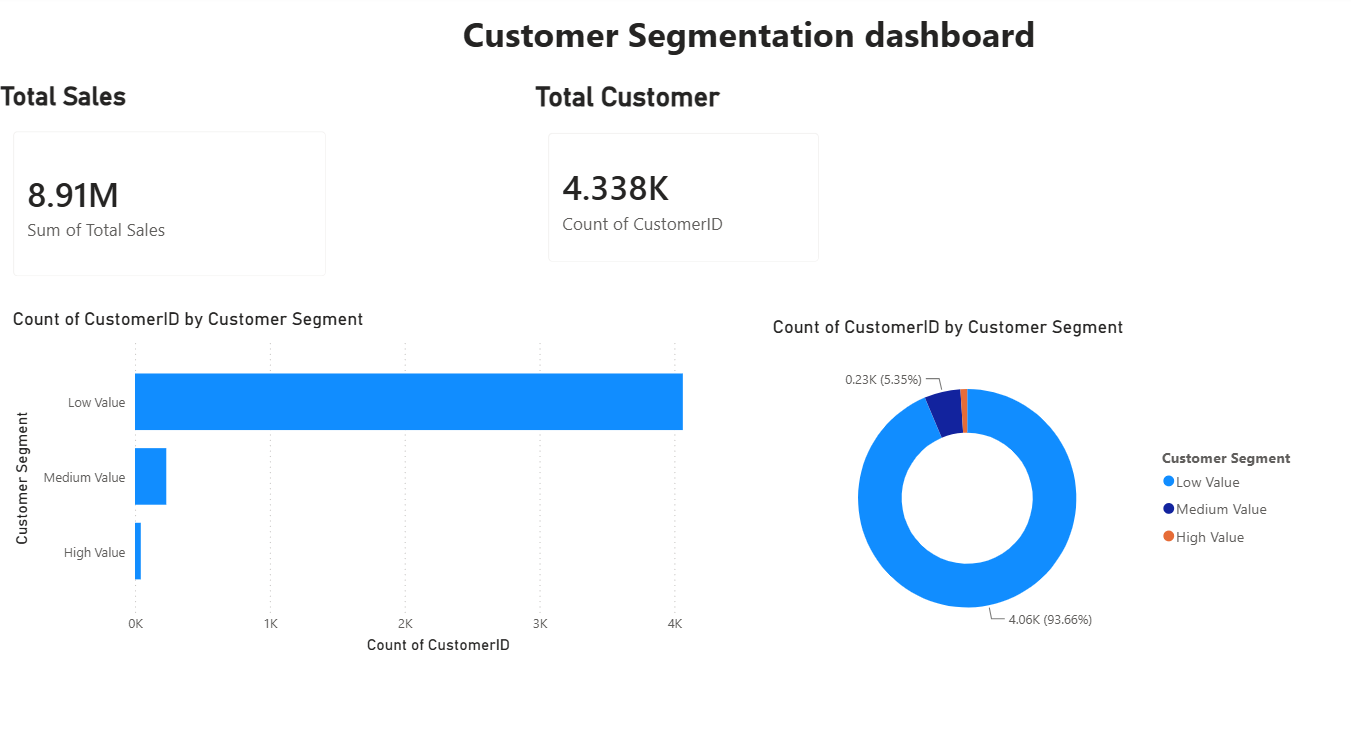

The page's visual inventory and layout, read from the dashboard file:
{"tool":"powerbi","page":{"name":"Page 1","canvas":[1280,720],"ordinal":0},"visuals":[{"type":"cardVisual","title":"Total Customer","fields":{"Data":["Count(OnlineRetail.CustomerID)"]},"box":[497.1,80.5,287,186.1],"z":0},{"type":"clusteredBarChart","fields":{"Category":["OnlineRetail.Customer Segment"],"Y":["CountNonNull(OnlineRetail.CustomerID)"]},"box":[12,290.6,695.2,326.6],"z":1000},{"type":"cardVisual","title":"Total Sales","fields":{"Data":["Sum(OnlineRetail.Total Sales)"]},"box":[0,80.5,325.4,199.3],"z":2000},{"type":"donutChart","fields":{"Category":["OnlineRetail.Customer Segment"],"Y":["CountNonNull(OnlineRetail.CustomerID)"]},"box":[718,299,507.9,318.2],"z":3000},{"type":"textbox","box":[429.9,9.6,796.1,70.8],"z":3001}]}

Visuals, with their boxes in screenshot pixels (x1, y1, x2, y2), scaled from the page's 1280x720 canvas onto the 1351x742 screenshot:
"Total Customer" cardVisual: BBox(525, 83, 828, 275)
clusteredBarChart - OnlineRetail.Customer Segment x CountNonNull(OnlineRetail.CustomerID): BBox(13, 299, 746, 636)
"Total Sales" cardVisual: BBox(0, 83, 343, 288)
donutChart - OnlineRetail.Customer Segment x CountNonNull(OnlineRetail.CustomerID): BBox(758, 308, 1294, 636)
textbox: BBox(454, 10, 1294, 83)
